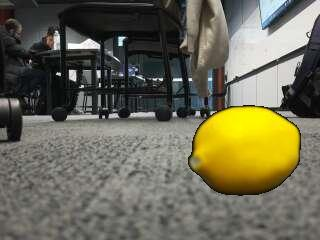lemon: (189, 107, 299, 194)
